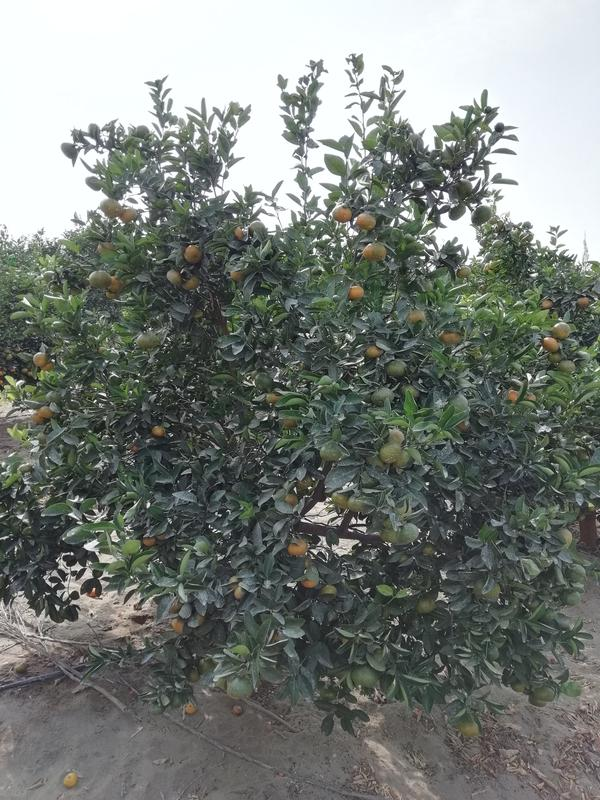mandarina naranja: (288, 539, 307, 556), (332, 207, 352, 222), (440, 331, 463, 343), (553, 323, 570, 339), (357, 214, 376, 228), (185, 246, 200, 263), (542, 337, 558, 352), (33, 352, 48, 367), (63, 772, 78, 787), (37, 406, 55, 418), (349, 286, 364, 300), (364, 346, 383, 357), (32, 414, 48, 424)
mandarina verde: (352, 666, 381, 688), (228, 674, 253, 699), (321, 442, 342, 462), (348, 496, 372, 513), (363, 243, 386, 260), (532, 685, 556, 701), (381, 444, 401, 463), (470, 207, 491, 225), (100, 200, 122, 217), (371, 388, 394, 404), (566, 563, 585, 582), (137, 333, 161, 348), (458, 721, 479, 738), (89, 271, 111, 287), (386, 359, 406, 376), (417, 598, 436, 614), (448, 204, 465, 221), (333, 492, 350, 509), (119, 207, 137, 222), (561, 590, 580, 604), (255, 374, 272, 389), (557, 359, 575, 372), (168, 269, 182, 285), (46, 390, 61, 403), (457, 265, 470, 277), (152, 426, 165, 437)
